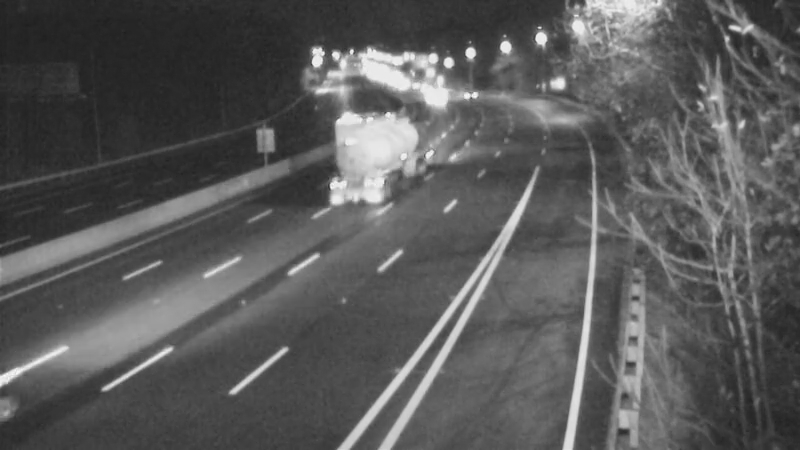vehicle: (445, 67, 495, 117), (410, 69, 460, 119), (339, 121, 389, 171)
